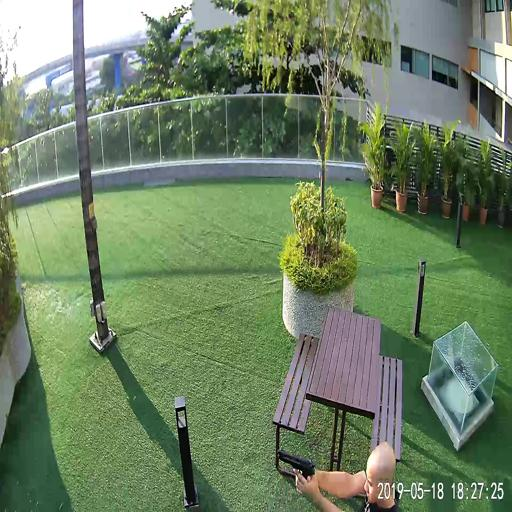pistol: (277, 448, 315, 497)
